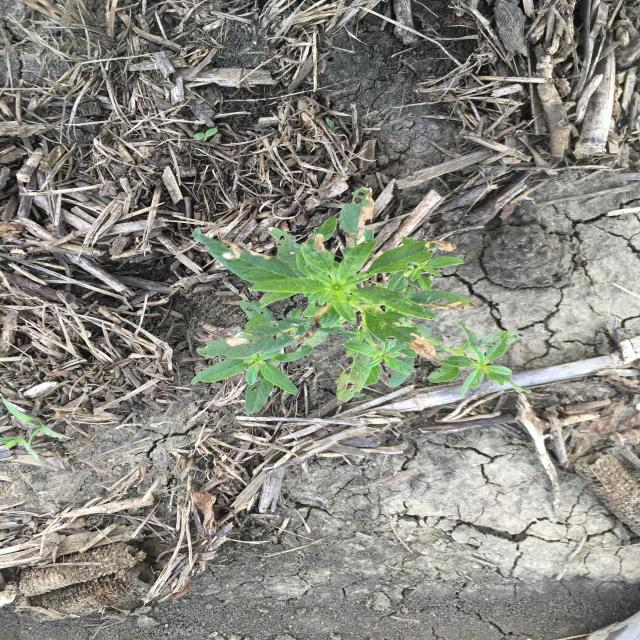Waterhemp: (190, 185, 534, 416)
